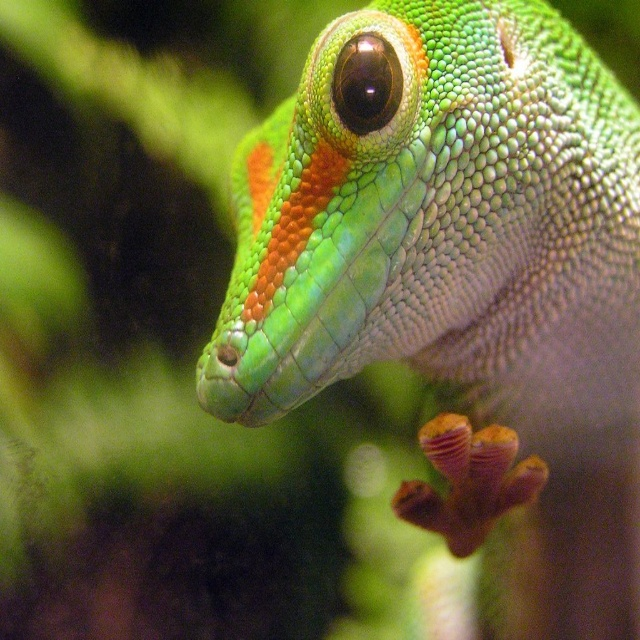Lizard: (210, 7, 640, 484)
